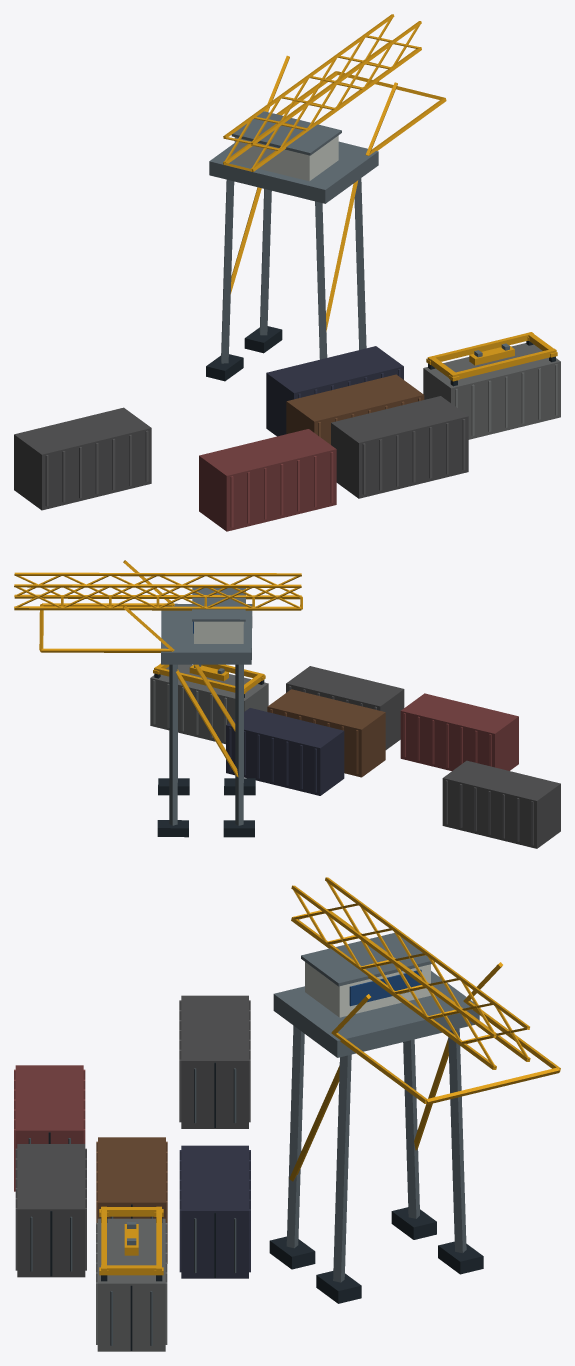
File: gantry-crane-e-w-03.glb
3 views of the same model, one above another, from view 1: azimuth 30°, elevation 25°; view 2: azimuth 150°, elevation 25°; view 3: azimuth 270°, elevation 25° (orthographic). The views are drawn at different scales.
Visible parts, largest first — view 1: gantry-crane-e-w-03; view 2: gantry-crane-e-w-03; view 3: gantry-crane-e-w-03.
Boxes of the visible parts, x1,y1,x2,y2 form: gantry-crane-e-w-03: (14, 14, 560, 531); gantry-crane-e-w-03: (14, 560, 560, 848); gantry-crane-e-w-03: (14, 877, 560, 1351).
Size of the model in its own units: 61.07 by 31.18 by 46.76.
